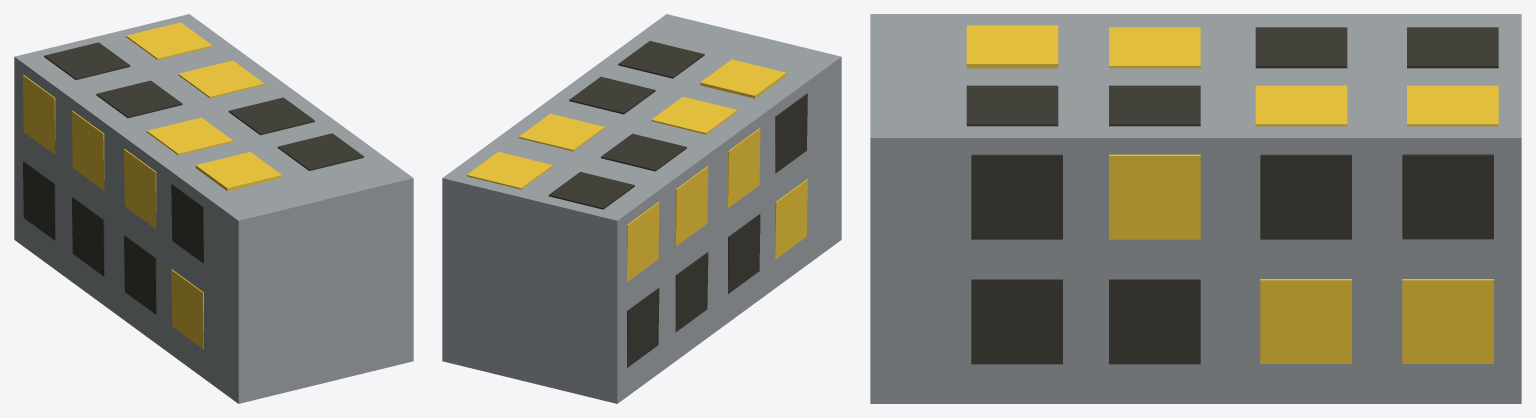
Rendered from Building1.obj.
The picture shows the model from 3 angles, left to right: view 1: azimuth 30°, elevation 25°; view 2: azimuth 150°, elevation 25°; view 3: azimuth 270°, elevation 25°; orthographic projection. The views are drawn at different scales.
Parts seen in each view (by area): view 1: obj_0, obj_9, obj_28, obj_27, obj_25, obj_26, obj_29, obj_30, obj_31, obj_32, obj_13, obj_14 (+5 smaller); view 2: obj_0, obj_9, obj_27, obj_28, obj_32, obj_31, obj_11, obj_12, obj_29, obj_30, obj_16, obj_15 (+5 smaller); view 3: obj_0, obj_17, obj_18, obj_19, obj_20, obj_21, obj_24, obj_22, obj_23, obj_9, obj_13, obj_10 (+5 smaller).
Part boxes in pixels (left/top/right/bottom): obj_0: left=14, top=14, right=413, bottom=403; obj_9: left=195, top=152, right=281, bottom=190; obj_28: left=71, top=110, right=104, bottom=190; obj_27: left=71, top=196, right=104, bottom=276; obj_25: left=23, top=75, right=55, bottom=154; obj_26: left=23, top=160, right=55, bottom=240; obj_29: left=124, top=235, right=156, bottom=314; obj_30: left=124, top=149, right=156, bottom=228; obj_31: left=171, top=269, right=203, bottom=349; obj_32: left=171, top=183, right=203, bottom=263; obj_13: left=96, top=80, right=182, bottom=118; obj_14: left=178, top=60, right=264, bottom=98; obj_0: left=442, top=14, right=841, bottom=403; obj_9: left=700, top=59, right=786, bottom=98; obj_27: left=675, top=252, right=708, bottom=331; obj_28: left=675, top=166, right=708, bottom=246; obj_32: left=775, top=93, right=807, bottom=173; obj_31: left=775, top=179, right=807, bottom=259; obj_11: left=569, top=76, right=655, bottom=114; obj_12: left=651, top=96, right=737, bottom=134; obj_29: left=728, top=214, right=760, bottom=293; obj_30: left=728, top=128, right=760, bottom=207; obj_16: left=466, top=151, right=552, bottom=189; obj_15: left=548, top=172, right=634, bottom=209; obj_0: left=870, top=14, right=1521, bottom=403; obj_17: left=1109, top=154, right=1200, bottom=239; obj_18: left=1109, top=279, right=1200, bottom=364; obj_19: left=971, top=279, right=1062, bottom=364; obj_20: left=971, top=154, right=1062, bottom=239; obj_21: left=1260, top=154, right=1351, bottom=239; obj_24: left=1402, top=154, right=1493, bottom=239; obj_22: left=1260, top=279, right=1351, bottom=363; obj_23: left=1402, top=279, right=1493, bottom=363; obj_9: left=966, top=25, right=1058, bottom=68; obj_13: left=1255, top=27, right=1347, bottom=68; obj_10: left=966, top=85, right=1058, bottom=126.
Bounding box in the file's own units: 65.36 × 66.01 × 142.
